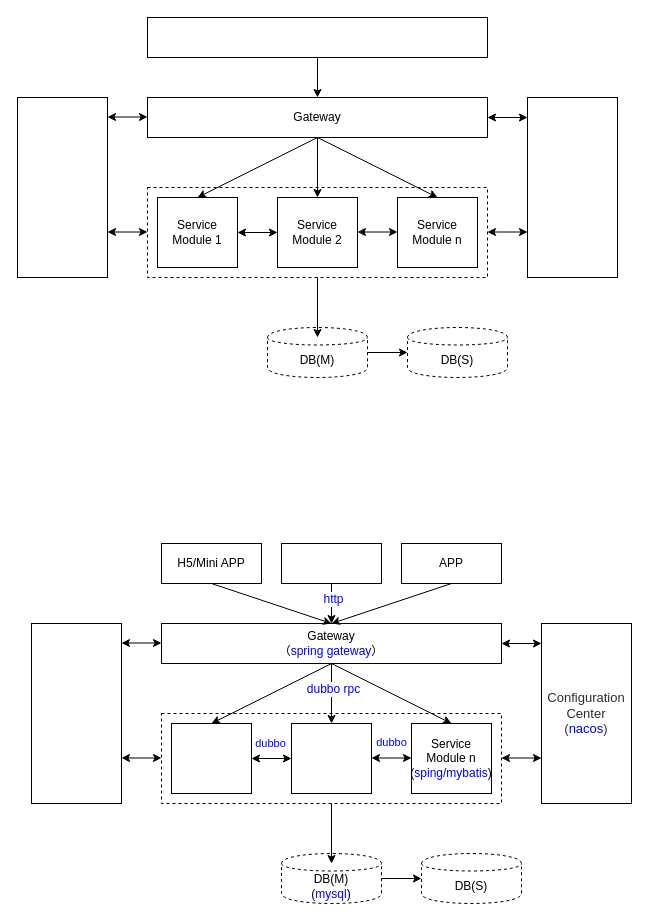
The diagram is 649 pixels wide and 921 high, and some of its shapes have lost their labels. Each missing label, with the box of its shape:
Configuration Center: (526, 96, 618, 278)
Front End: (146, 16, 488, 58)
PC: (280, 542, 382, 584)
Register Center: (16, 96, 108, 278)
Register Center ( nacos ): (30, 622, 122, 804)
Service Module 1 ( sping/mybatis ): (170, 722, 252, 794)
Service Module 2 ( sping/mybatis ): (290, 722, 372, 794)
